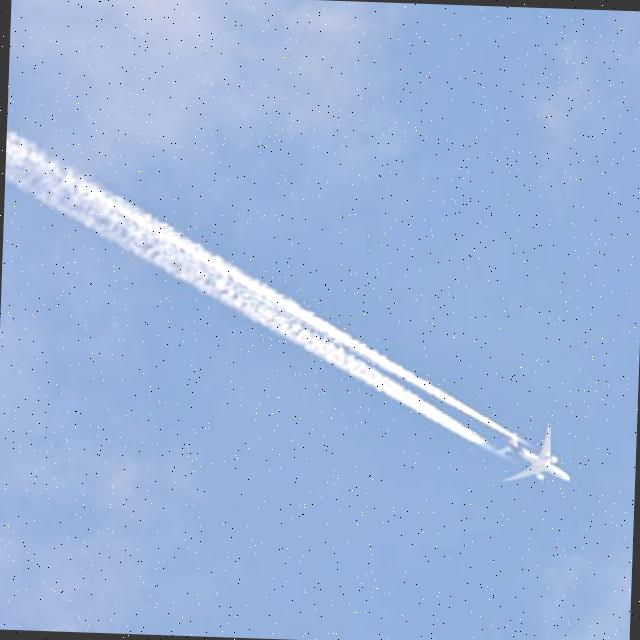Ct: (1, 64, 640, 416)
